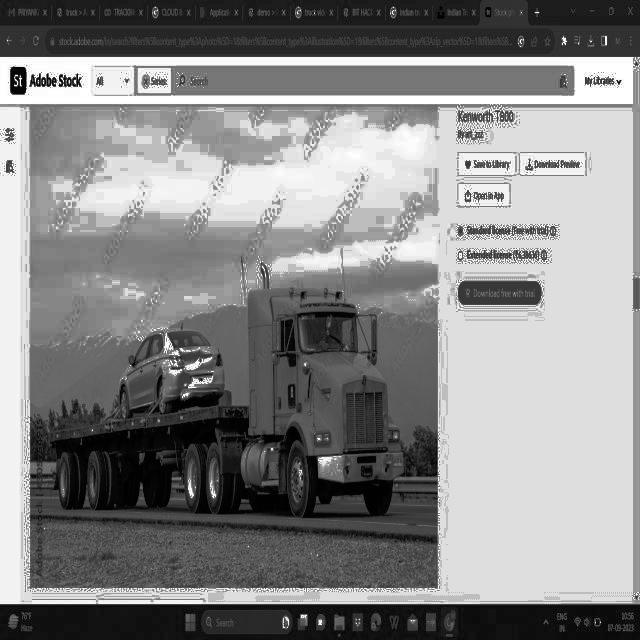HCV: (45, 246, 433, 544)
